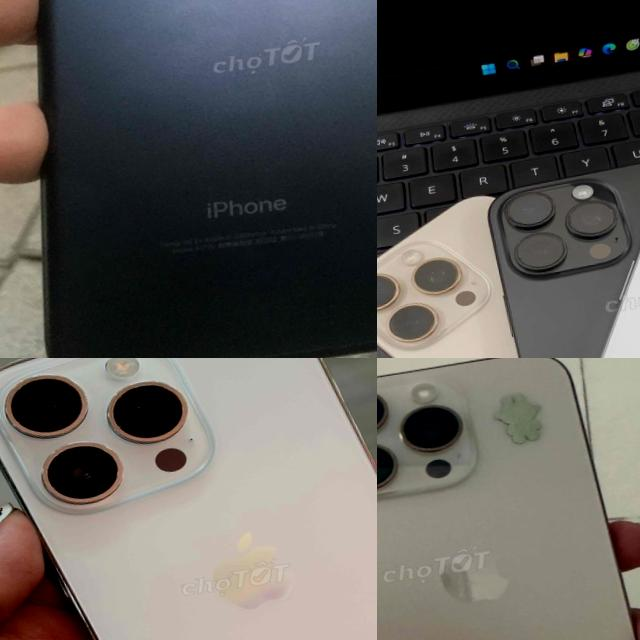gen_14: (0, 358, 377, 640)
gen_16: (377, 358, 637, 640)
gen_7_8: (0, 0, 377, 358)
